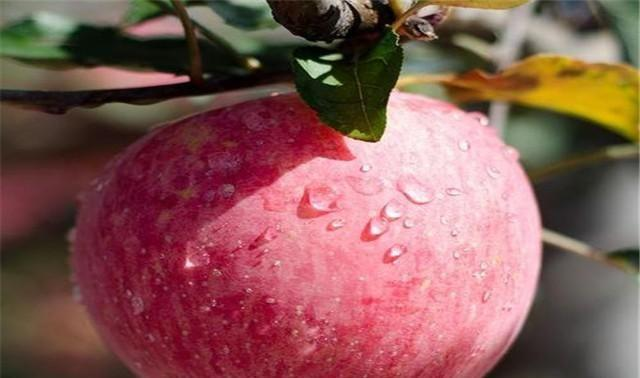apple: (64, 84, 541, 377)
